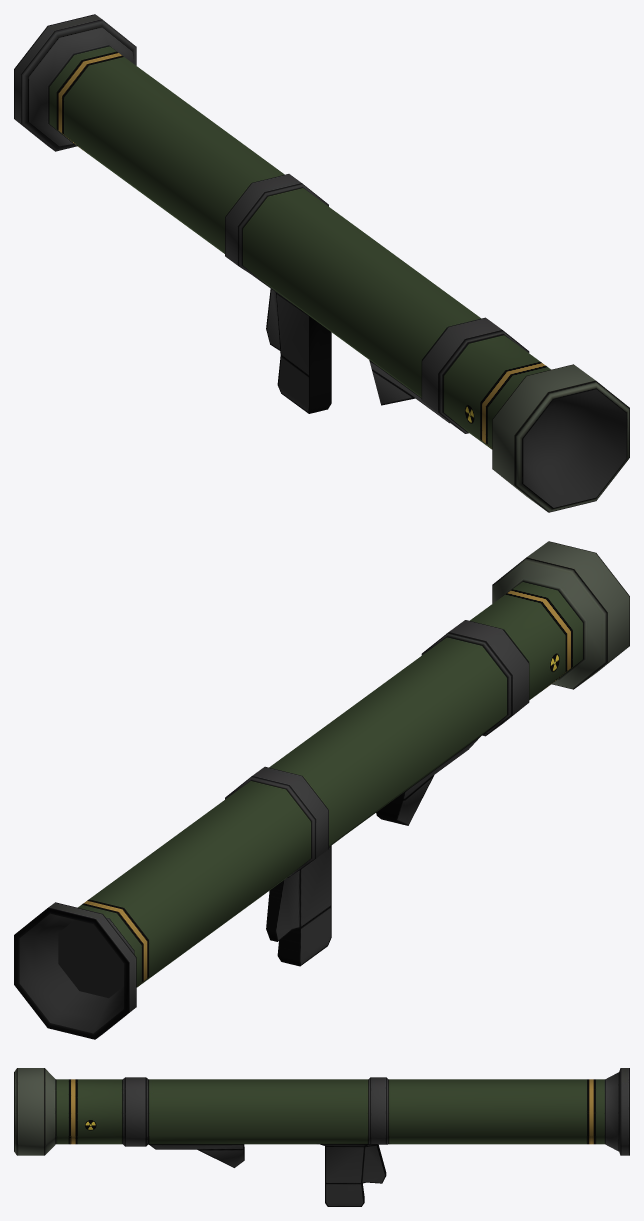
The model's file is bazooka.glb.
3 views of the same model, one above another, from view 1: azimuth 30°, elevation 25°; view 2: azimuth 150°, elevation 25°; view 3: azimuth 270°, elevation 25° (orthographic). The views are drawn at different scales.
Visible parts, largest first — view 1: Bazooka; view 2: Bazooka; view 3: Bazooka.
Boxes of the visible parts, x1,y1,x2,y2 form: Bazooka: (14,14,629,512); Bazooka: (14,541,629,1039); Bazooka: (14,1068,629,1206).
Bounding box in the file's own units: 3.59 × 6.29 × 27.22.
1 material, 1 textured.
